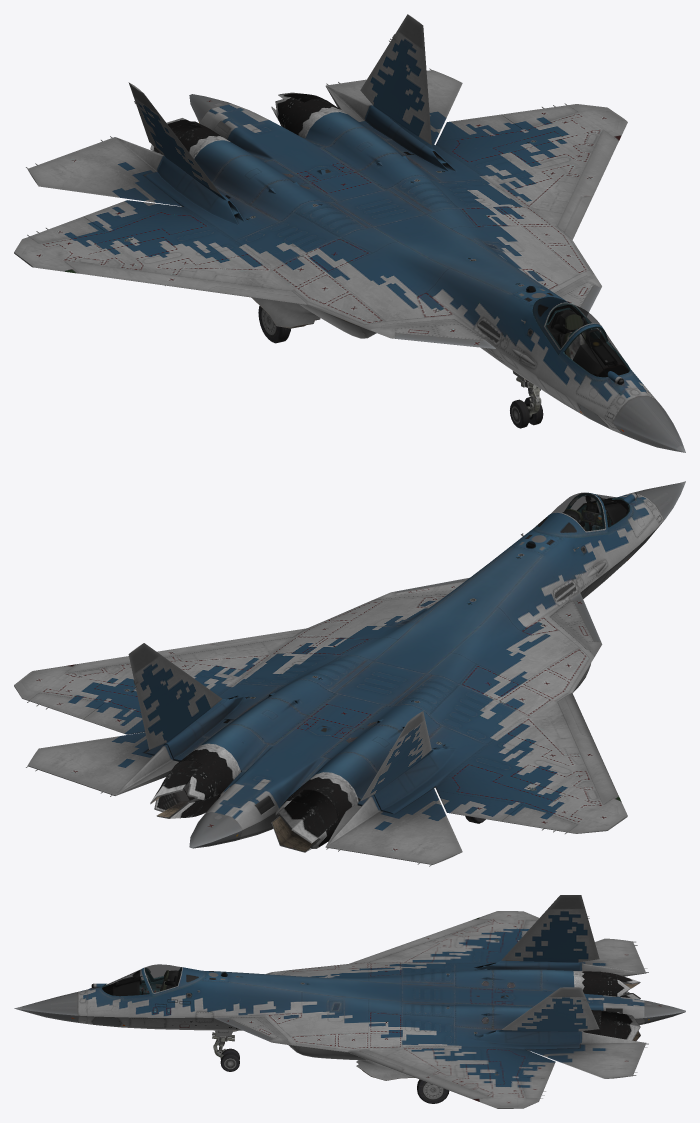
File: su-57m__mwt_tank_battles.glb
The picture shows the model from 3 angles, top to bottom: view 1: azimuth 30°, elevation 25°; view 2: azimuth 150°, elevation 25°; view 3: azimuth 270°, elevation 25°; orthographic projection. The views are drawn at different scales.
Visible parts, largest first — view 1: Object_3, Object_4, Object_2; view 2: Object_3, Object_4, Object_2; view 3: Object_3, Object_4, Object_2.
Part boxes in pixels (x1,y1,x2,y2): Object_3: (14,94,685,452); Object_4: (26,14,576,428); Object_2: (526,286,629,377); Object_3: (14,481,685,852); Object_4: (26,643,577,866); Object_2: (526,492,629,548); Object_3: (14,911,685,1108); Object_4: (212,895,648,1098); Object_2: (102,964,227,995).
Bounding box in the file's own units: 14.02 × 4.24 × 20.2.
Materials: 2 (1 with a texture image).
